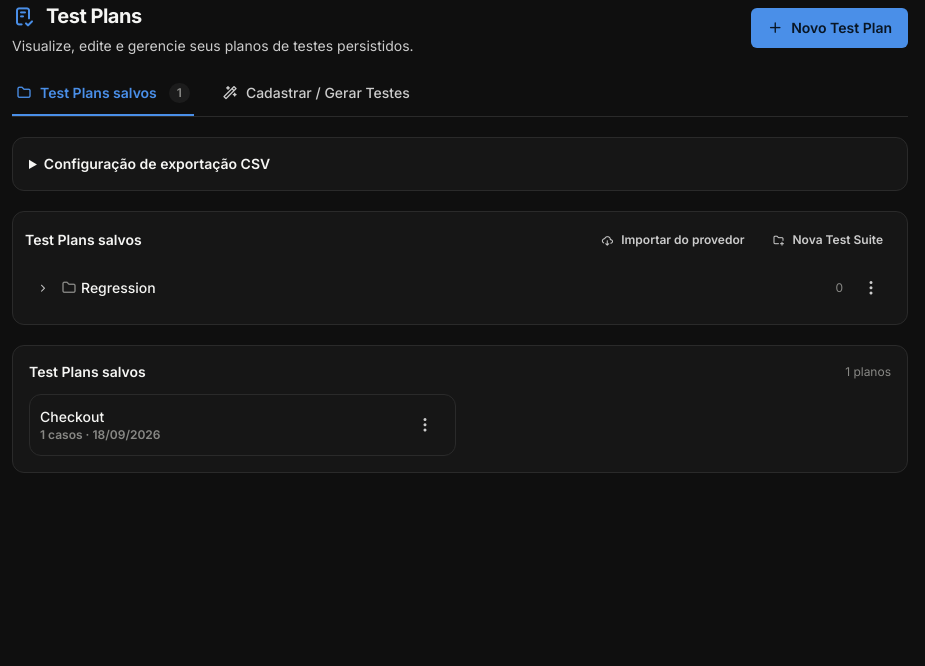
Test case: TestPlansView suite requirement › refuses to save a plan left outside a suite
Click the button with aria-label "Abrir Test Plan Checkout": [72, 416] box x1=40 y1=407 x2=405 y2=443
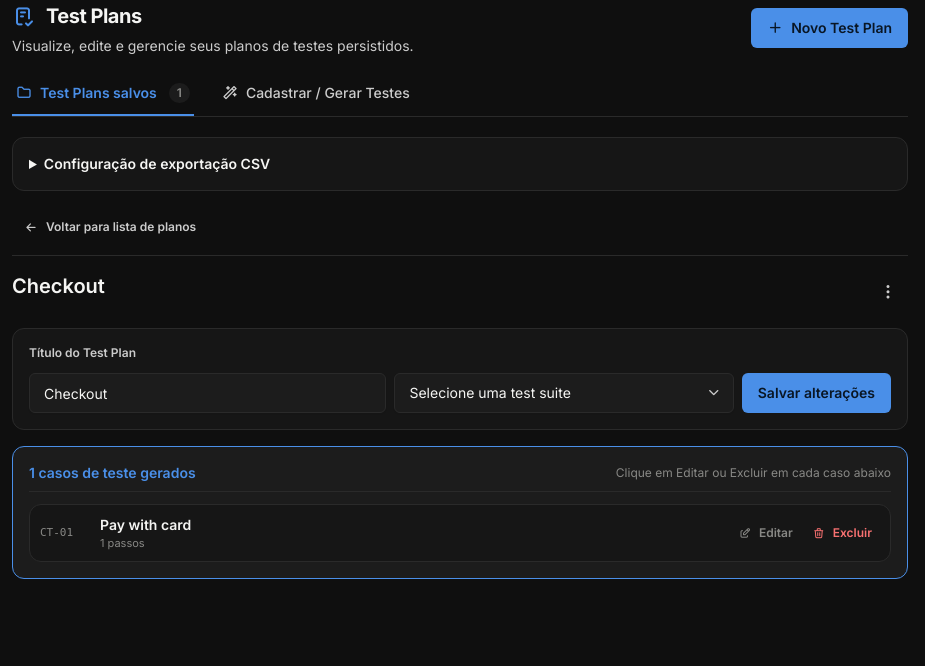
Click the button with test id "btn-save-plan-changes": [816, 393] box x1=742 y1=373 x2=891 y2=413
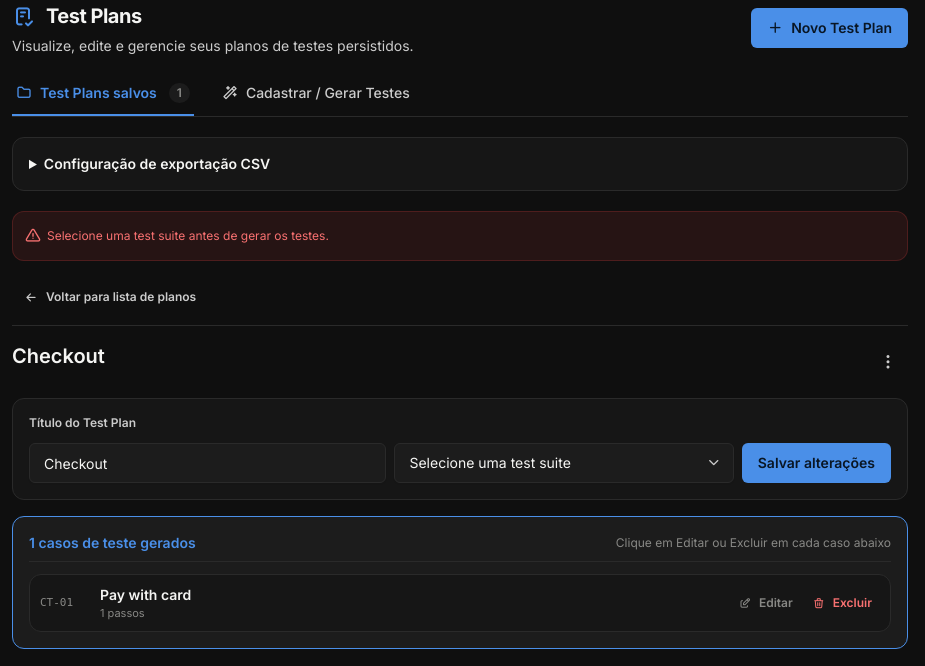
Check: the message "Selecione uma test suite antes de gerar os testes." is shown, box x1=12 y1=211 x2=908 y2=261
